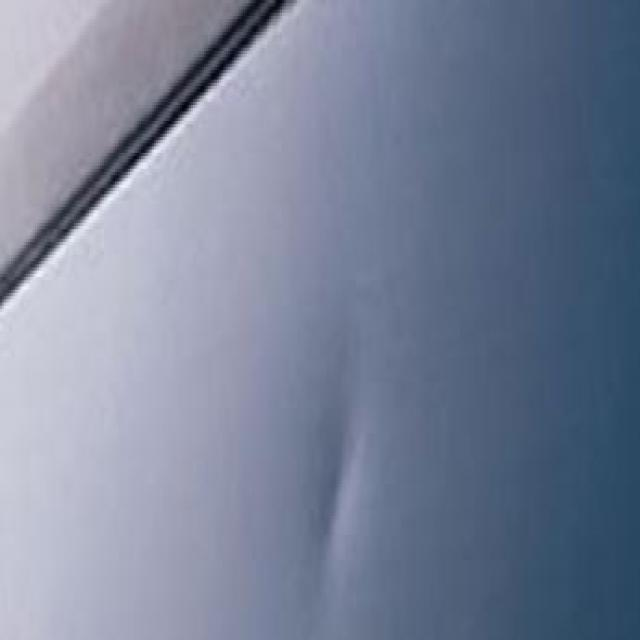dent: (305, 356, 368, 598)
